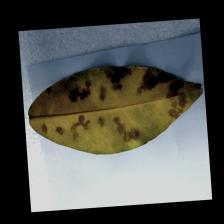black spot: (38, 65, 188, 142)
